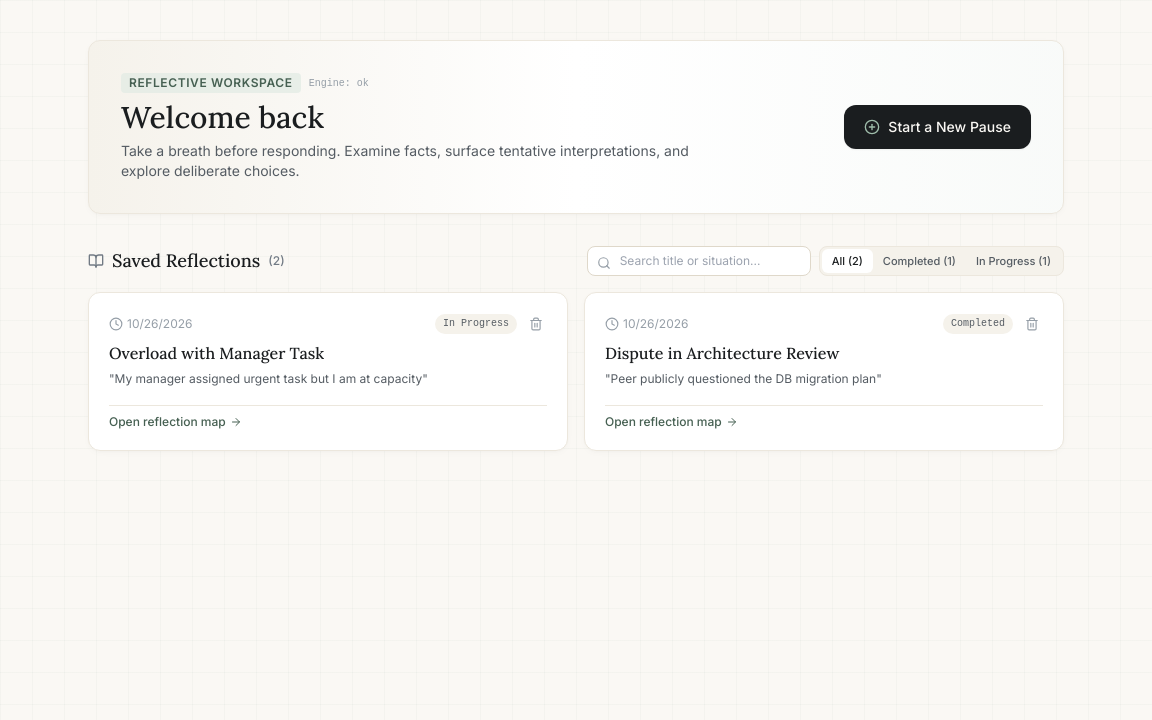
Test: DashboardPage › renders list of saved reflections and opens delete confirmation
Expected: the heading "Overload with Manager Task" is shown, x1=109 y1=343 x2=324 y2=363
Expected: the heading "Dispute in Architecture Review" is shown, x1=605 y1=343 x2=839 y2=363
Note: Click delete icon button on first item
Click the button titled "Delete reflection". click: (536, 324)
box: x1=525 y1=313 x2=547 y2=335
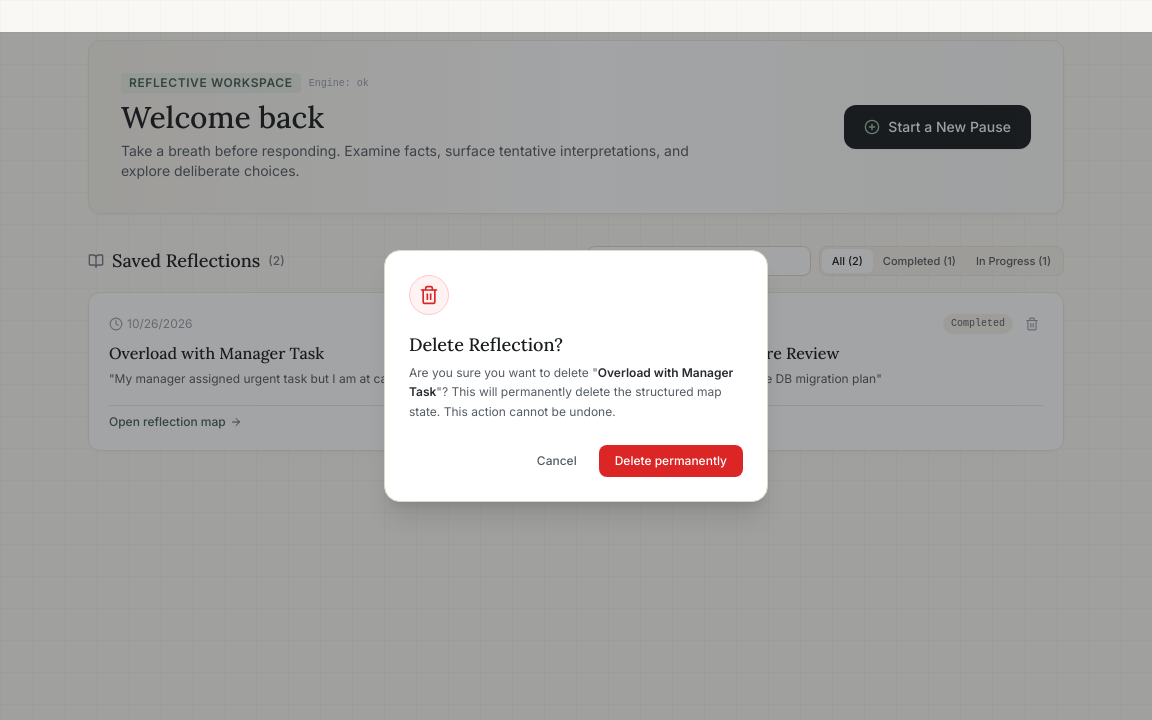
Result: the heading "Delete Reflection?" is shown at x1=409 y1=333 x2=563 y2=356
Result: the button "Cancel" is shown
Result: the button "Delete permanently" is shown at x1=599 y1=445 x2=743 y2=477
Note: Cancel deletion
Click the button "Cancel". click: (557, 461)
box: x1=523 y1=445 x2=591 y2=477
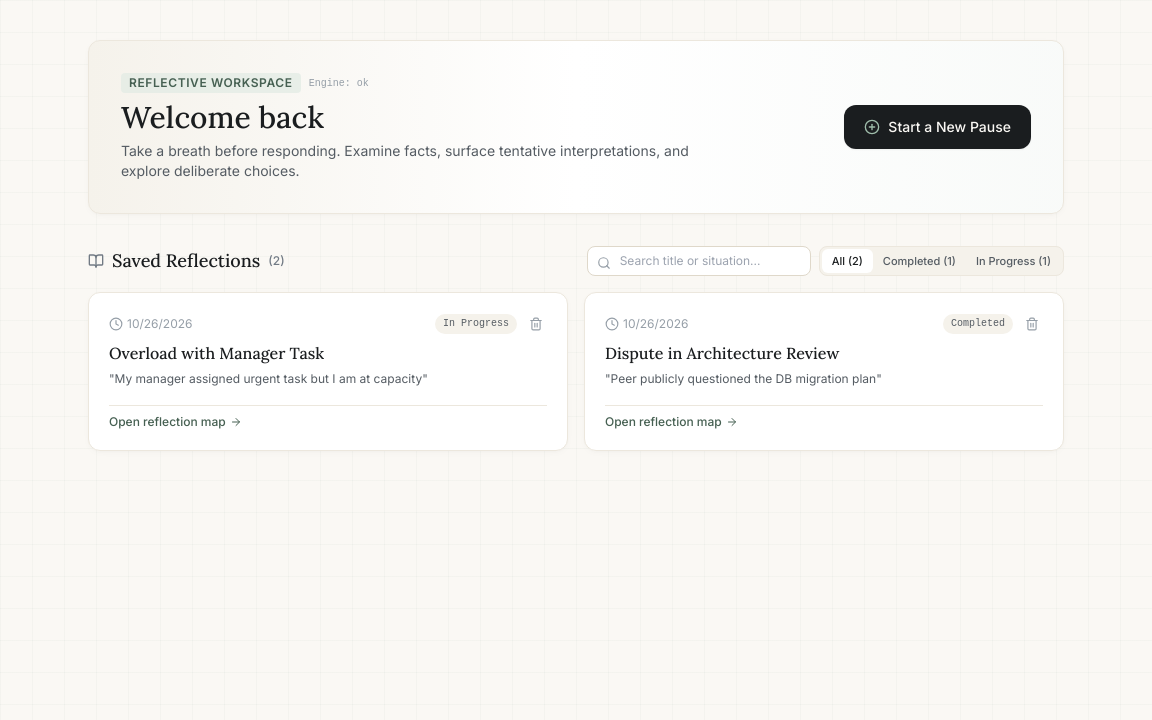
Result: the heading "Delete Reflection?" is gone
